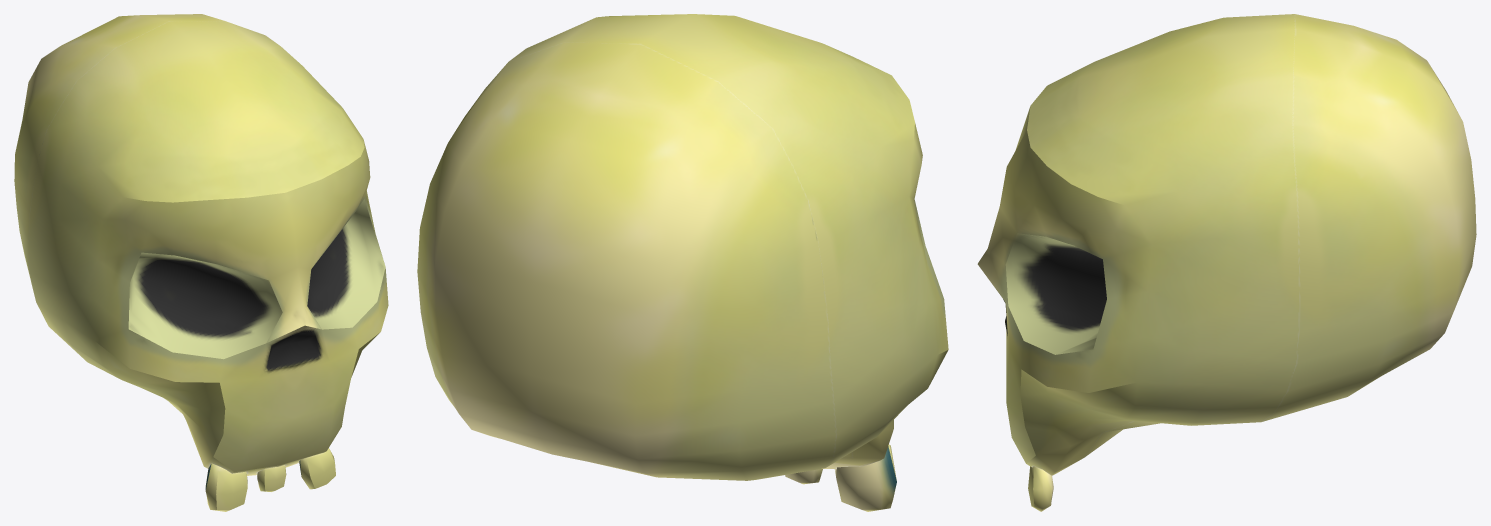
File: Skull.fbx
3 views of the same model, side by side, from view 1: azimuth 30°, elevation 25°; view 2: azimuth 150°, elevation 25°; view 3: azimuth 270°, elevation 25° (orthographic). The views are drawn at different scales.
Visible parts, largest first — view 1: Skull; view 2: Skull; view 3: Skull.
Part boxes in pixels (x1,y1,x2,y2): Skull: (14,14,388,511); Skull: (417,14,948,511); Skull: (977,14,1476,511).
Bounding box in the file's own units: 22.07 × 28.93 × 28.33.
